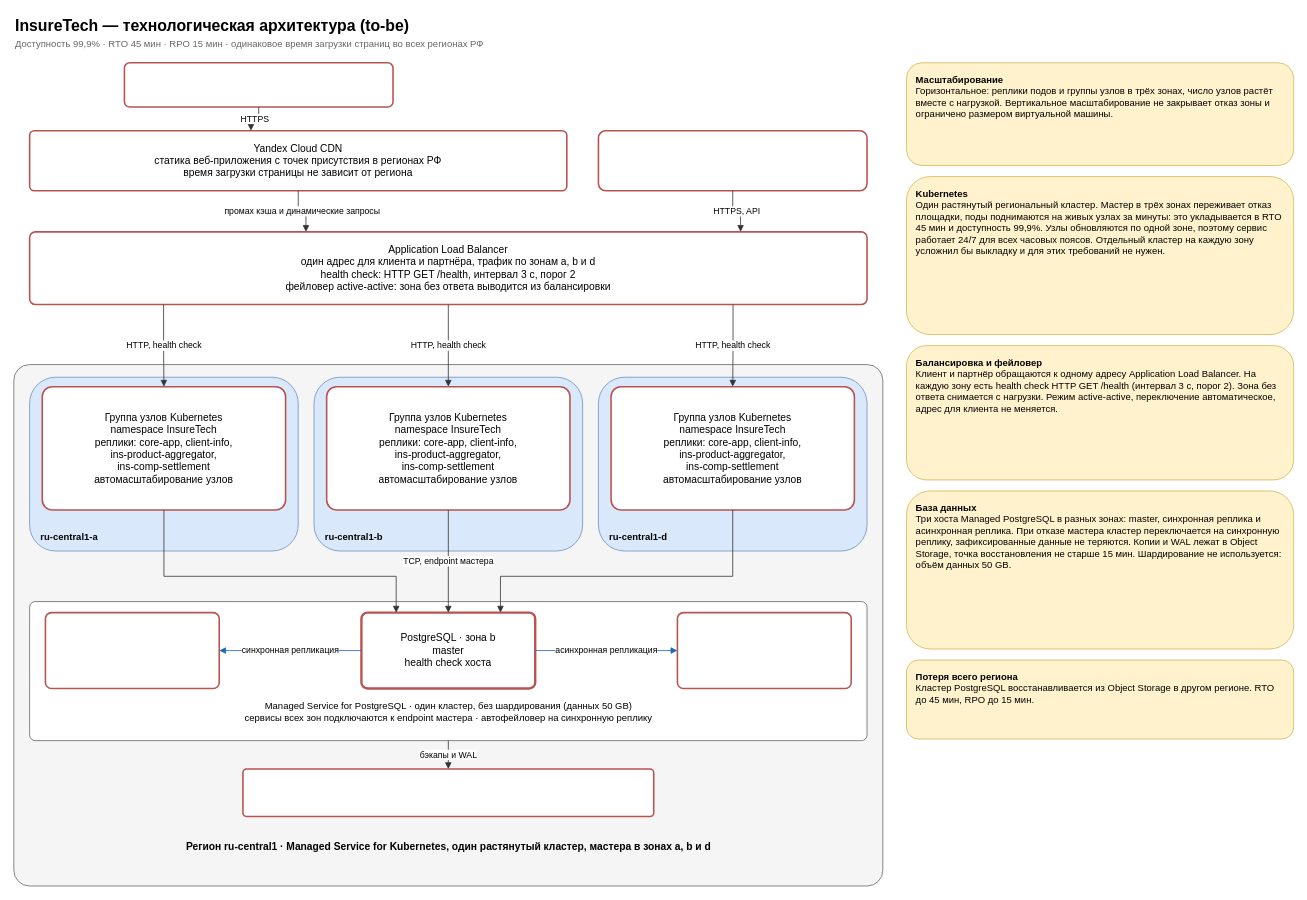
Some shapes in this 1307 by 900 pixel diagram are drawn without their labels. The shapes that lost their labels are listed below. From the top down, each one's box as (x1, y1, x2, y2) in pixels, then its label:
(123, 62, 393, 107): Браузер пользователя все регионы и часовые пояса РФ
(597, 130, 867, 191): B2B-партнёры API
(44, 611, 220, 689): PostgreSQL · зона a синхронная реплика health check хоста цель автофейловера
(676, 611, 852, 689): PostgreSQL · зона d асинхронная реплика health check хоста
(242, 768, 654, 817): Object Storage бэкапы и WAL, PITR · RPO ≤ 15 мин
